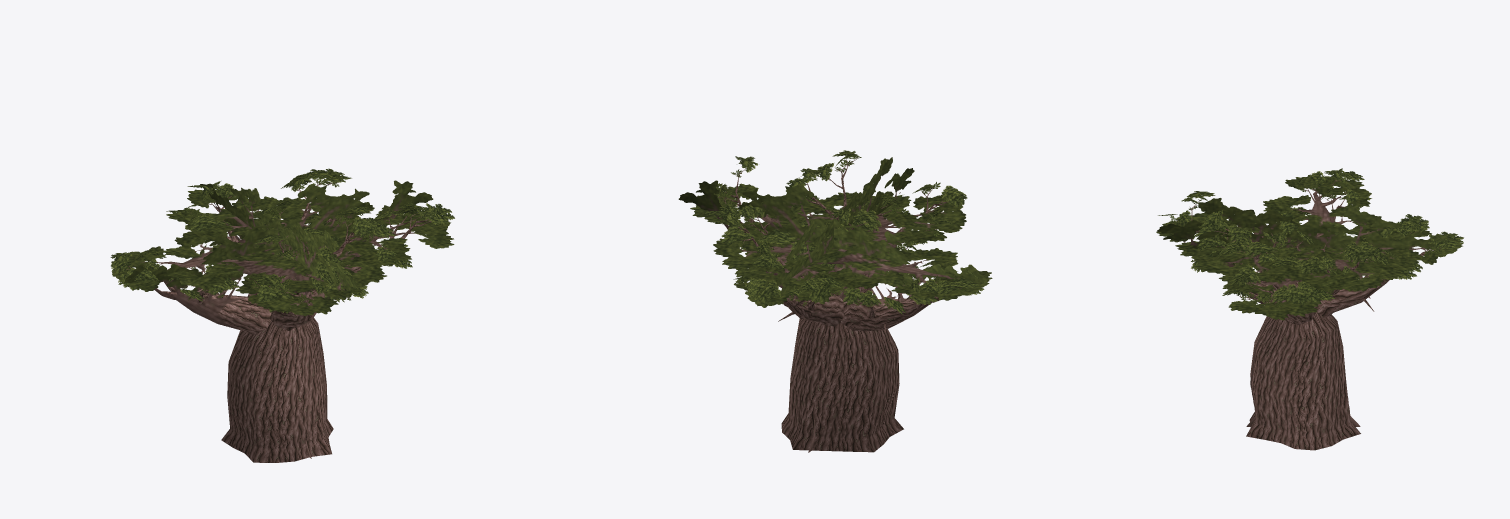
The model's file is Baoba_01_Digitata_Guarda_Sol.glb.
3 renders of one model, left to right at view 1: azimuth 30°, elevation 25°; view 2: azimuth 150°, elevation 25°; view 3: azimuth 270°, elevation 25°, orthographic. The views are drawn at different scales.
Visible parts, largest first — view 1: Baoba_01_Digitata_Guarda_Sol impostor, Tronco, Tufos da copa, Bracos principais, Folhas palmadas, Ramos secundarios; view 2: Baoba_01_Digitata_Guarda_Sol impostor, Tronco, Tufos da copa, Bracos principais, Folhas palmadas, Ramos secundarios; view 3: Baoba_01_Digitata_Guarda_Sol impostor, Tronco, Tufos da copa, Bracos principais, Folhas palmadas.
Part boxes in pixels (<box>): Baoba_01_Digitata_Guarda_Sol impostor: <box>111,180,454,458</box>; Tronco: <box>221,317,333,462</box>; Tufos da copa: <box>110,168,454,313</box>; Bracos principais: <box>174,230,386,334</box>; Folhas palmadas: <box>121,177,434,303</box>; Ramos secundarios: <box>155,202,416,317</box>; Baoba_01_Digitata_Guarda_Sol impostor: <box>678,157,992,452</box>; Tronco: <box>781,318,903,452</box>; Tufos da copa: <box>704,150,989,314</box>; Bracos principais: <box>769,229,931,331</box>; Folhas palmadas: <box>719,154,965,309</box>; Ramos secundarios: <box>735,179,939,319</box>; Baoba_01_Digitata_Guarda_Sol impostor: <box>1156,176,1463,426</box>; Tronco: <box>1246,312,1360,450</box>; Tufos da copa: <box>1158,168,1463,304</box>; Bracos principais: <box>1235,253,1389,325</box>; Folhas palmadas: <box>1170,173,1446,306</box>.
Size of what is drawn, in the model's own units: 21.49 by 21.49 by 21.49.
4 materials, 4 textured.
